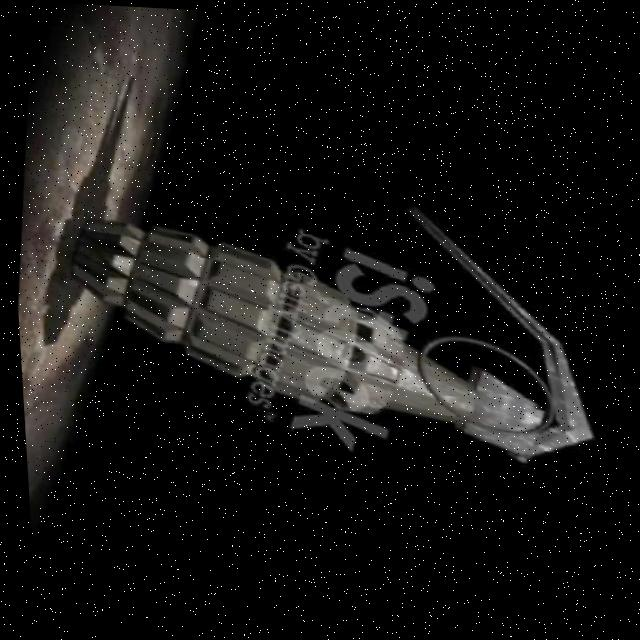grenade: (39, 84, 640, 525)
